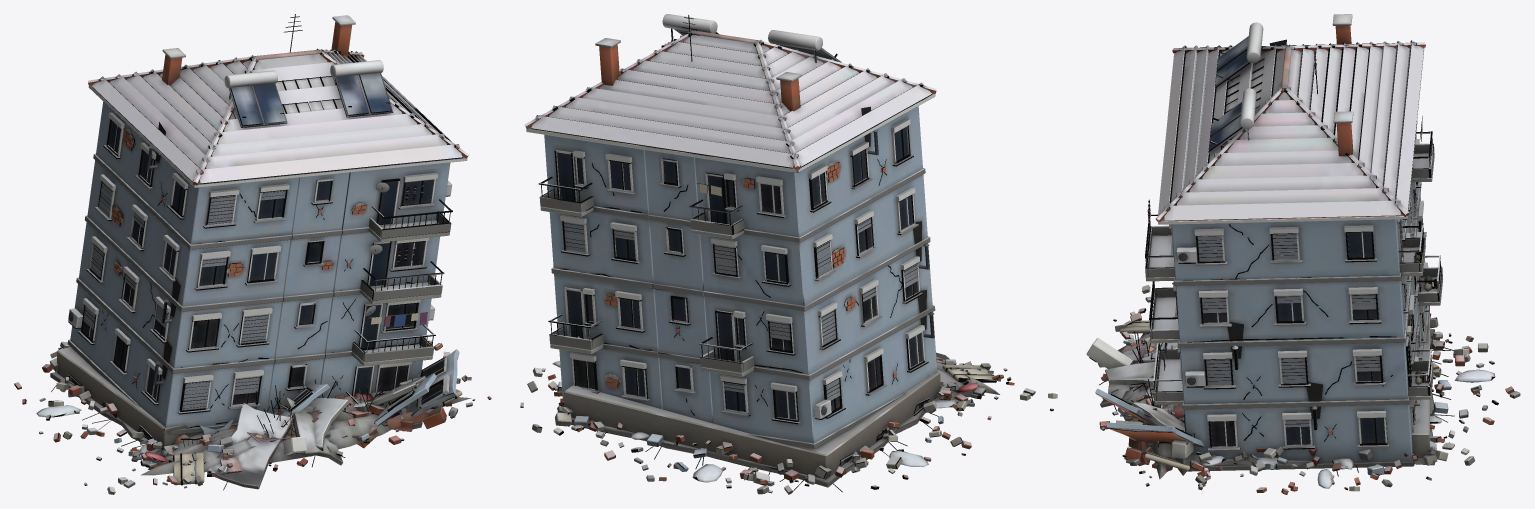
Rendered from bld_pancake_soft.glb.
3 views of the same model, side by side, from view 1: azimuth 30°, elevation 25°; view 2: azimuth 150°, elevation 25°; view 3: azimuth 270°, elevation 25° (orthographic). The views are drawn at different scales.
Visible parts, largest first — view 1: bld_pancake_soft; view 2: bld_pancake_soft; view 3: bld_pancake_soft.
Boxes of the visible parts, bbox=[...] form: bld_pancake_soft: bbox=[14, 14, 491, 494]; bld_pancake_soft: bbox=[520, 14, 1057, 494]; bld_pancake_soft: bbox=[1086, 14, 1520, 494].
Size of the model in its own units: 20 by 17.37 by 17.35.
1 material, 1 textured.
